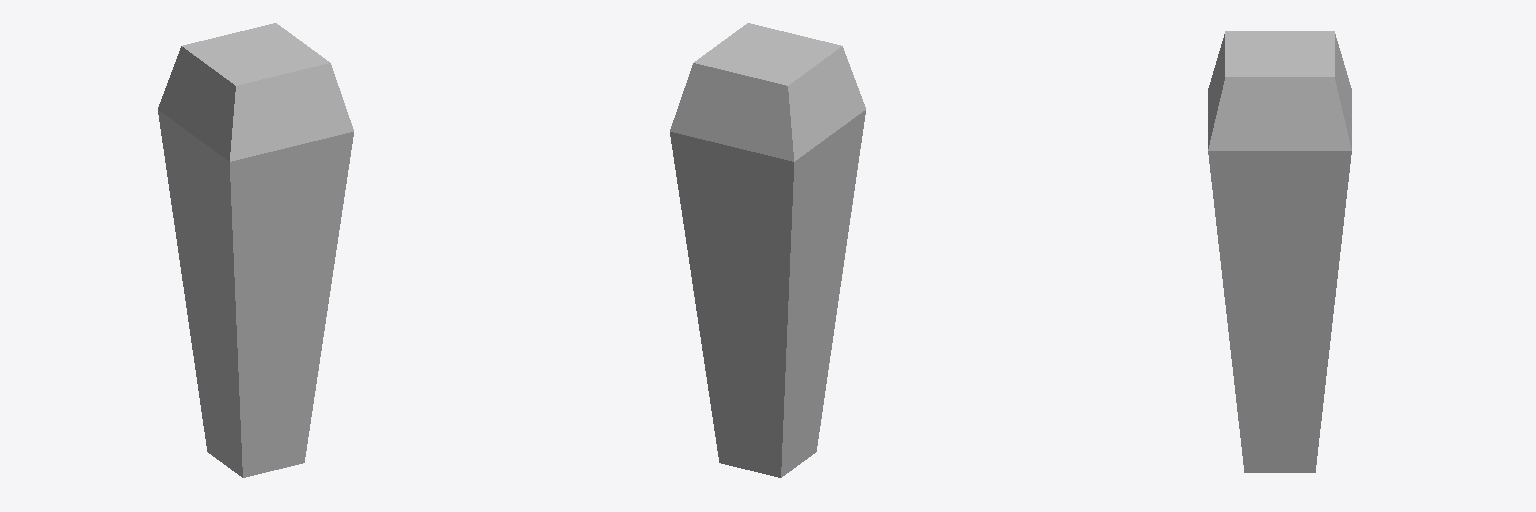
The model's file is KnightLeg2.obj.
3 renders of one model, left to right at view 1: azimuth 30°, elevation 25°; view 2: azimuth 150°, elevation 25°; view 3: azimuth 270°, elevation 25°, orthographic.
Parts seen in each view (by area): view 1: Cube.007; view 2: Cube.007; view 3: Cube.007.
Part boxes in pixels (x1,y1,x2,y2): Cube.007: (158, 23, 353, 477); Cube.007: (670, 23, 865, 477); Cube.007: (1208, 31, 1351, 472).
Size of the model in its own units: 0.7901 by 2.44 by 0.7901.